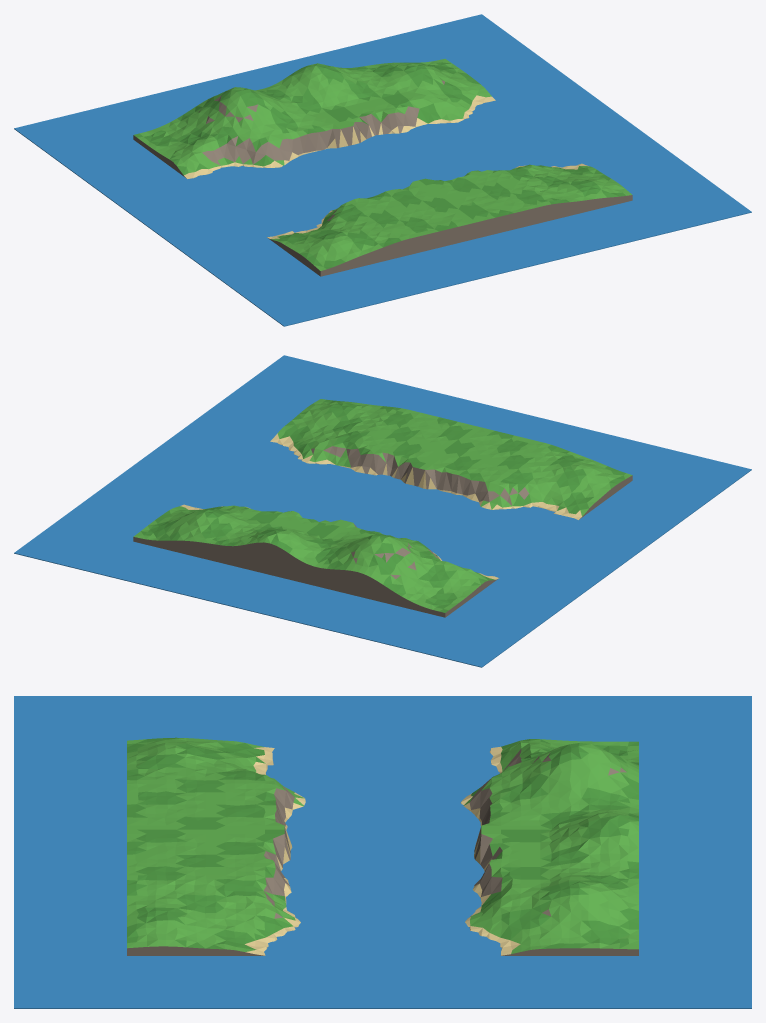
The model's file is Level1_Terrain.glb.
3 views of the same model, one above another, from view 1: azimuth 30°, elevation 25°; view 2: azimuth 150°, elevation 25°; view 3: azimuth 270°, elevation 25° (orthographic). The views are drawn at different scales.
Parts seen in each view (by area): view 1: Level1_Terrain_Water, Level1_Terrain_Land; view 2: Level1_Terrain_Water, Level1_Terrain_Land; view 3: Level1_Terrain_Water, Level1_Terrain_Land.
Part boxes in pixels (box(x1,y1,x2,y2)): Level1_Terrain_Water: box(14, 14, 751, 326); Level1_Terrain_Land: box(133, 59, 632, 276); Level1_Terrain_Water: box(14, 355, 751, 667); Level1_Terrain_Land: box(133, 399, 632, 617); Level1_Terrain_Water: box(14, 696, 751, 1008); Level1_Terrain_Land: box(127, 737, 638, 955).
Size of the model in its own units: 420 by 45.78 by 420.
1 material, 1 textured.
